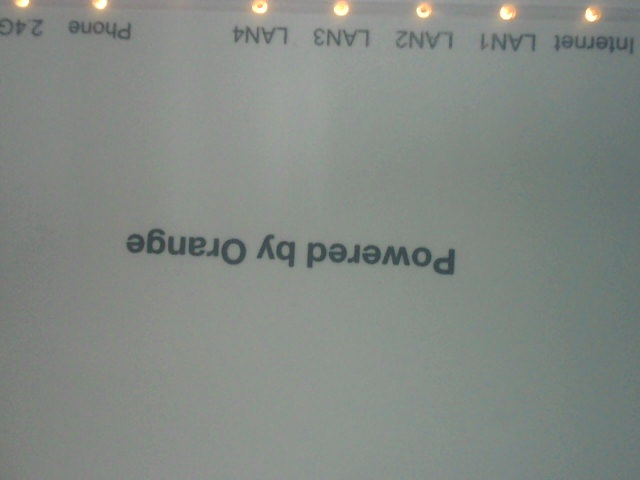AS_PowerByOrange: (110, 205, 482, 280)
